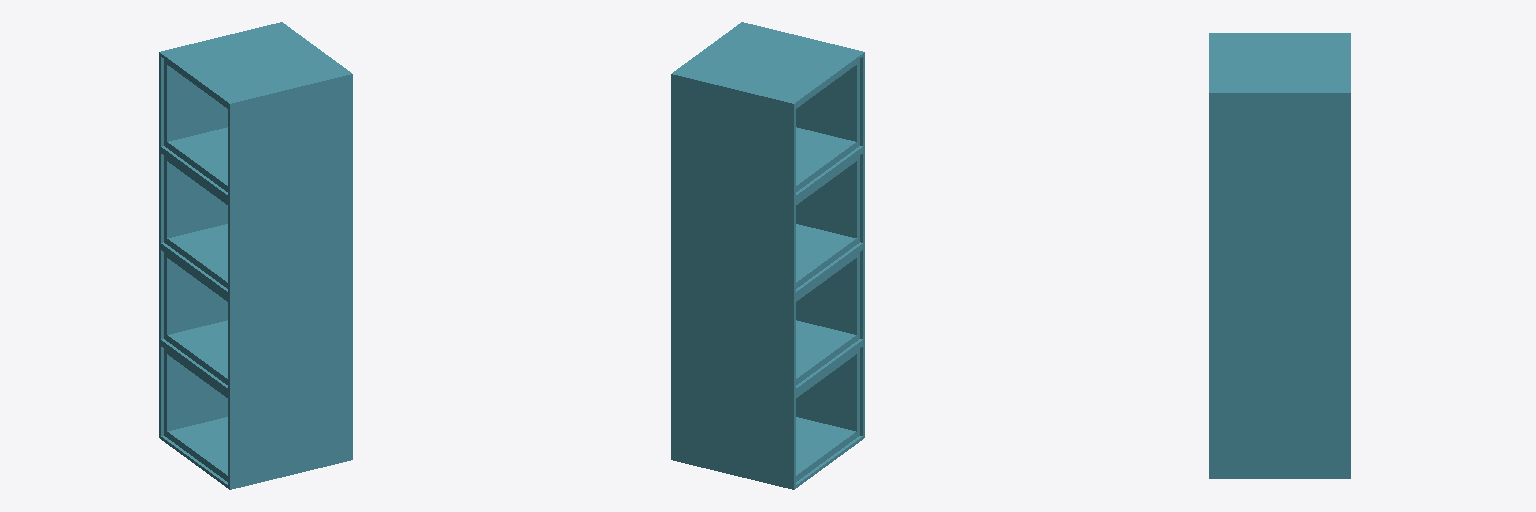
3 renders of one model, left to right at view 1: azimuth 30°, elevation 25°; view 2: azimuth 150°, elevation 25°; view 3: azimuth 270°, elevation 25°, orthographic.
Visible parts, largest first — view 1: box_Material.001; view 2: box_Material.001; view 3: box_Material.001.
Part boxes in pixels (bbox=[...]): box_Material.001: bbox=[159, 22, 352, 489]; box_Material.001: bbox=[671, 22, 864, 489]; box_Material.001: bbox=[1209, 33, 1350, 478].
Bounding box in the file's own units: 0.4 × 1.2 × 0.4.
Materials: 1 (1 with a texture image).